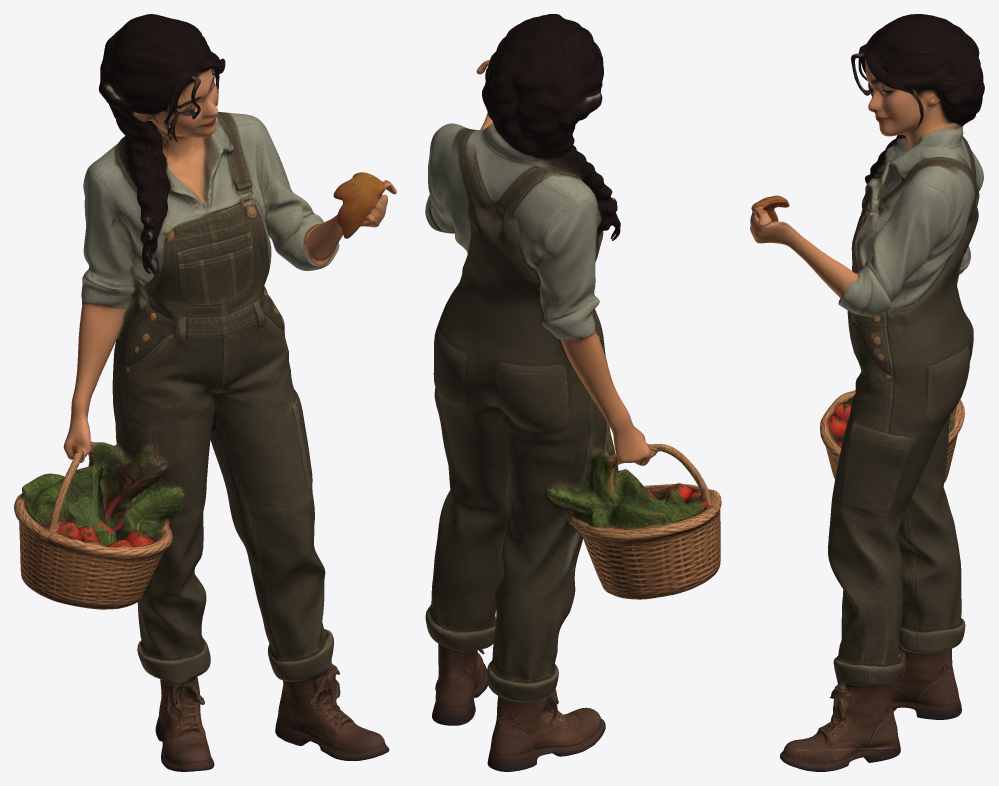
File: farmer_pose2.glb
3 renders of one model, left to right at view 1: azimuth 30°, elevation 25°; view 2: azimuth 150°, elevation 25°; view 3: azimuth 270°, elevation 25°, orthographic. The views are drawn at different scales.
Size of the model in its own units: 0.8427 by 1.9 by 0.5916.
1 material, 1 textured.
